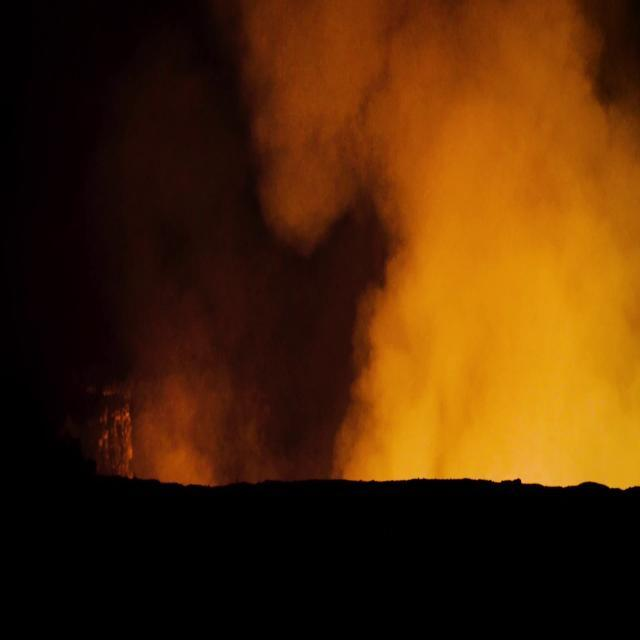Smoke: (274, 2, 640, 462)
